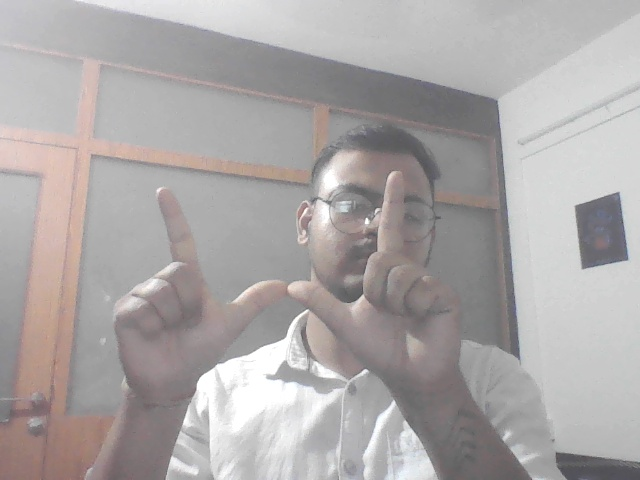Whatever: (103, 166, 486, 398)
